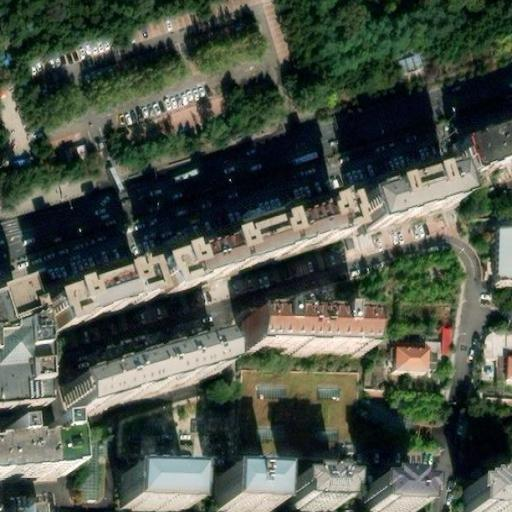building: (149, 218, 343, 304), (145, 206, 333, 275), (65, 340, 214, 408), (42, 278, 147, 338), (354, 179, 454, 238), (349, 165, 441, 209), (39, 267, 137, 307), (0, 286, 31, 411), (244, 315, 361, 347), (0, 427, 64, 480), (457, 129, 512, 174), (119, 464, 184, 499), (213, 470, 265, 505), (358, 480, 415, 511), (282, 476, 335, 508), (454, 486, 510, 512), (391, 351, 428, 380), (496, 236, 512, 291), (394, 47, 423, 72), (434, 322, 452, 356), (4, 497, 44, 512), (504, 361, 512, 387)
